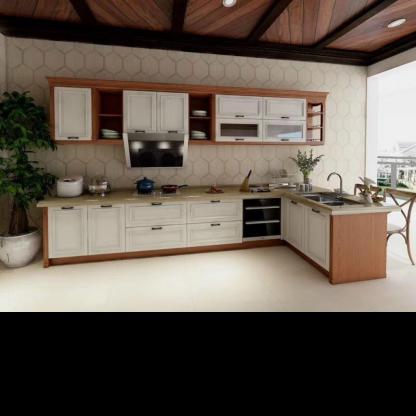Cabinet: (47, 199, 243, 258), (122, 90, 194, 139), (283, 197, 329, 272)
